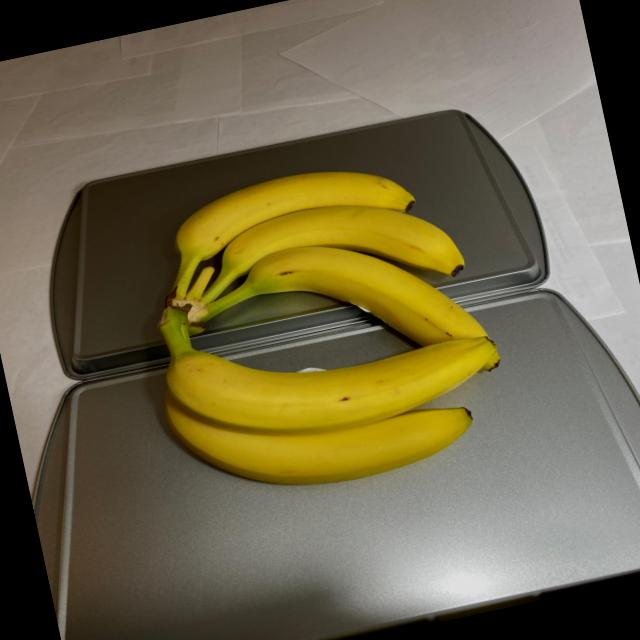banana: (114, 141, 516, 518)
